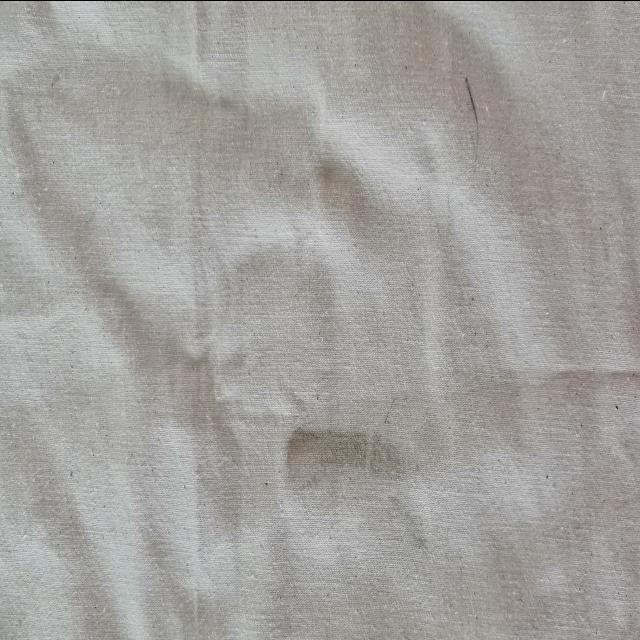taaaches: (285, 432, 425, 503), (462, 59, 484, 172), (410, 510, 434, 570), (382, 388, 404, 422)
